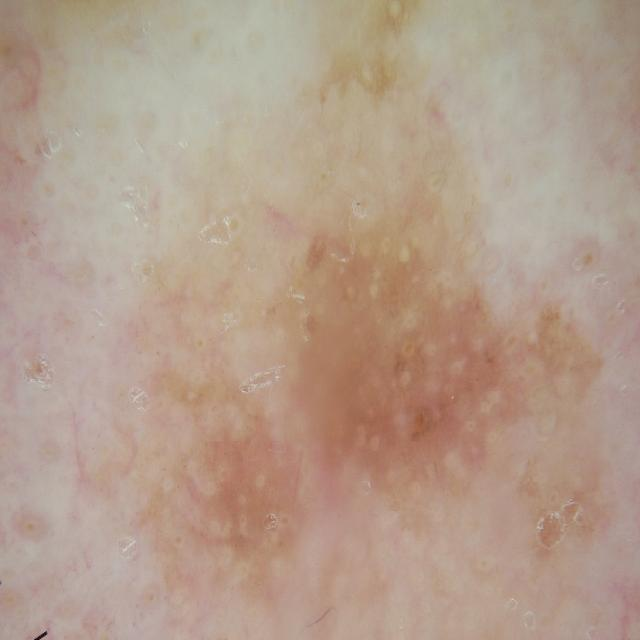Melanoma: (209, 145, 611, 579)
